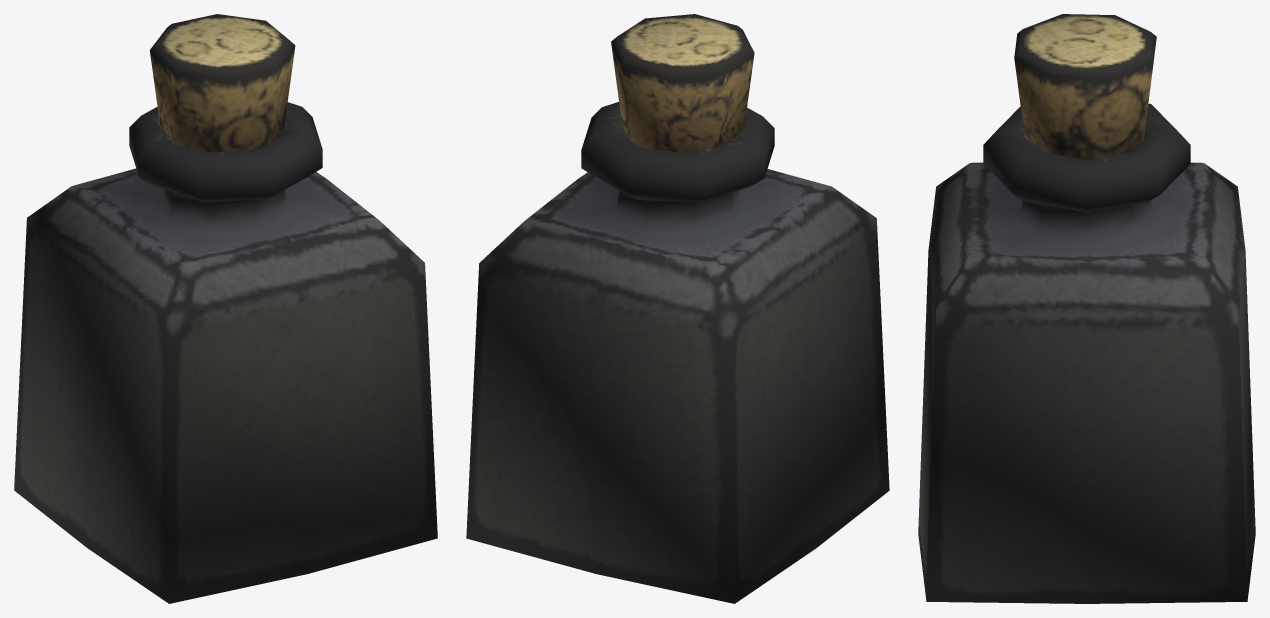
Rendered from Potion 3.fbx.
The picture shows the model from 3 angles, left to right: view 1: azimuth 30°, elevation 25°; view 2: azimuth 150°, elevation 25°; view 3: azimuth 270°, elevation 25°; orthographic projection. The views are drawn at different scales.
Visible parts, largest first — view 1: Cube.026, Cylinder.017; view 2: Cube.026, Cylinder.017; view 3: Cube.026, Cylinder.017.
Part boxes in pixels (box(x1,y1,x2,y2)): Cube.026: box(14, 102, 437, 603); Cylinder.017: box(149, 14, 295, 152); Cube.026: box(466, 102, 889, 603); Cylinder.017: box(611, 14, 754, 152); Cube.026: box(918, 103, 1255, 603); Cylinder.017: box(1014, 14, 1156, 159).
Bounding box in the file's own units: 35.37 × 57.79 × 36.05.
